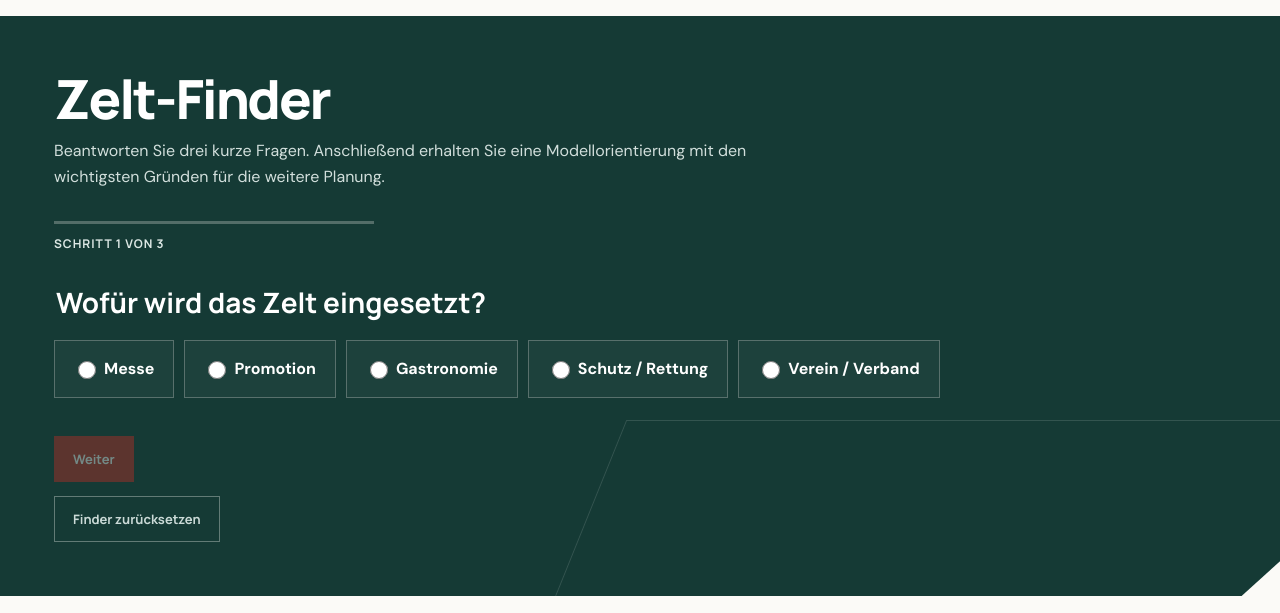
Test: TentFinder › behält Antworten beim Zurückgehen bei
Click the radio button labelled "Gastronomie": (379, 370) [370,361,388,379]
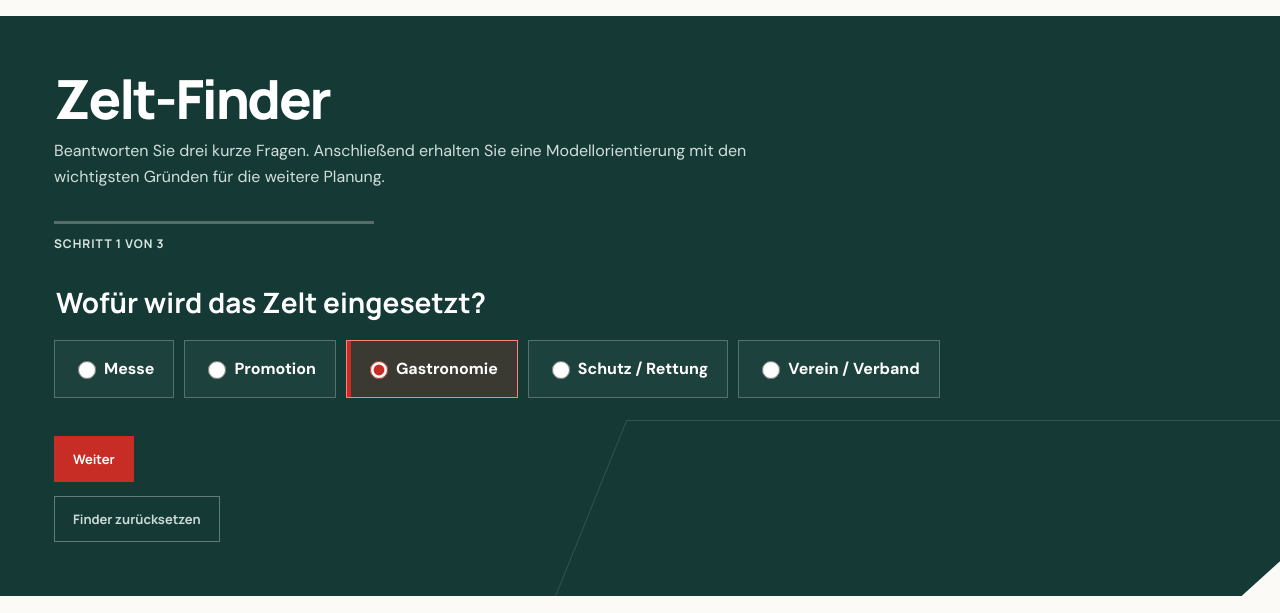
Click the button "Weiter": (94, 459) [54,436,134,482]
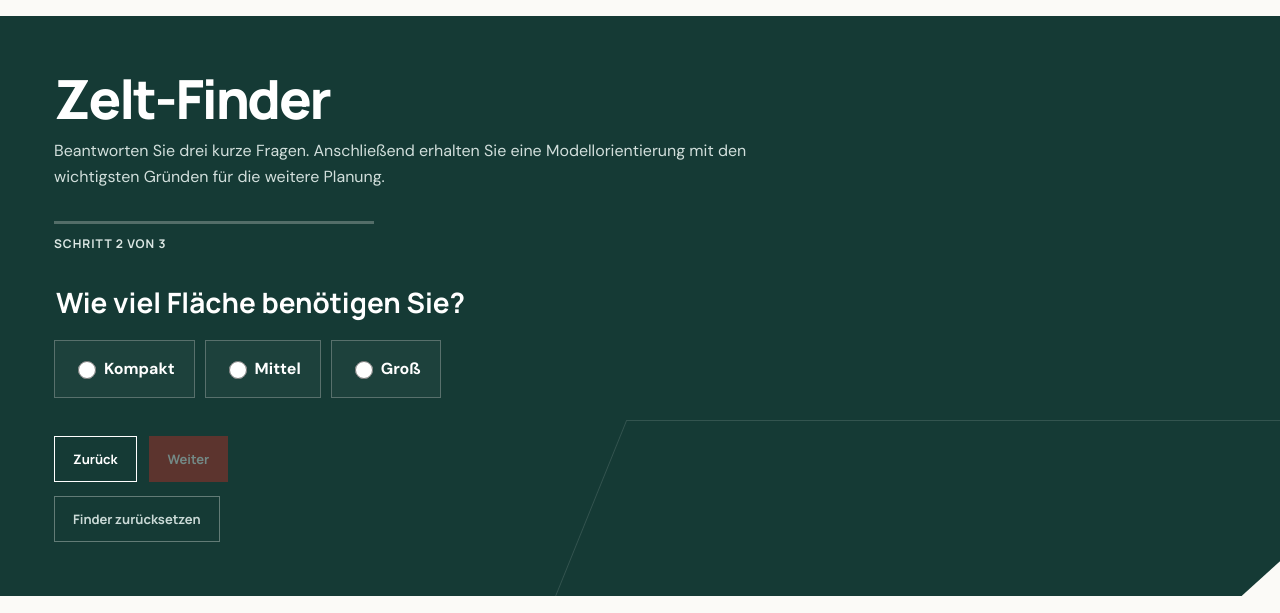
Click the radio button labelled "Mittel": (238, 370) [229,361,247,379]
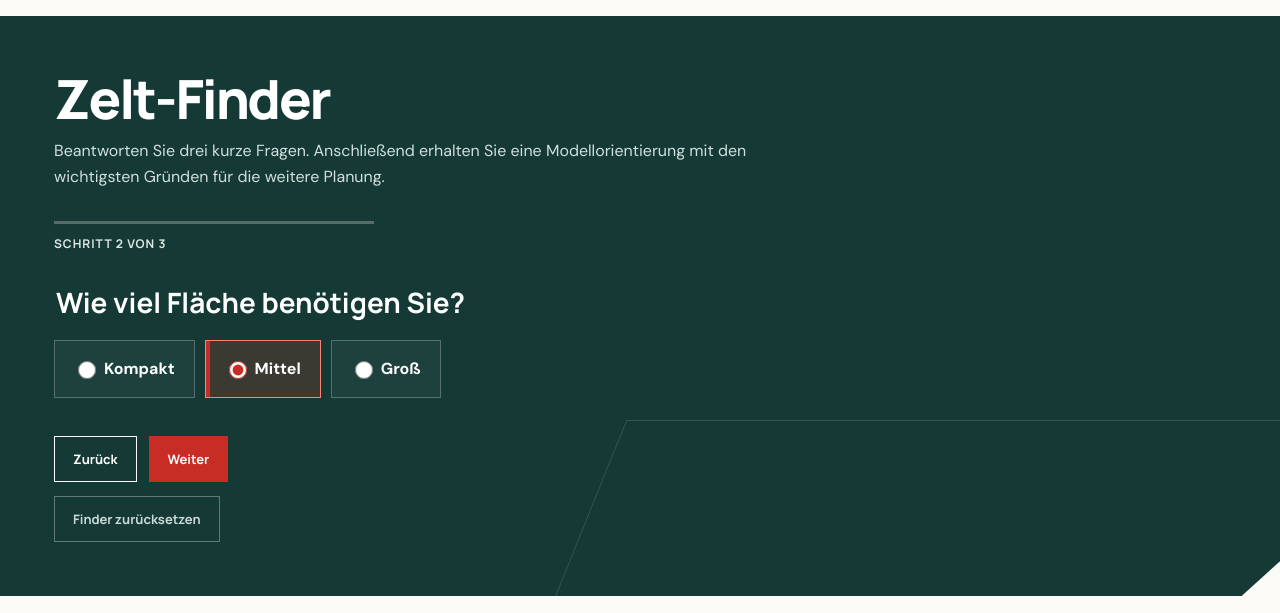
Click the button "Weiter": (188, 459) [149,436,228,482]
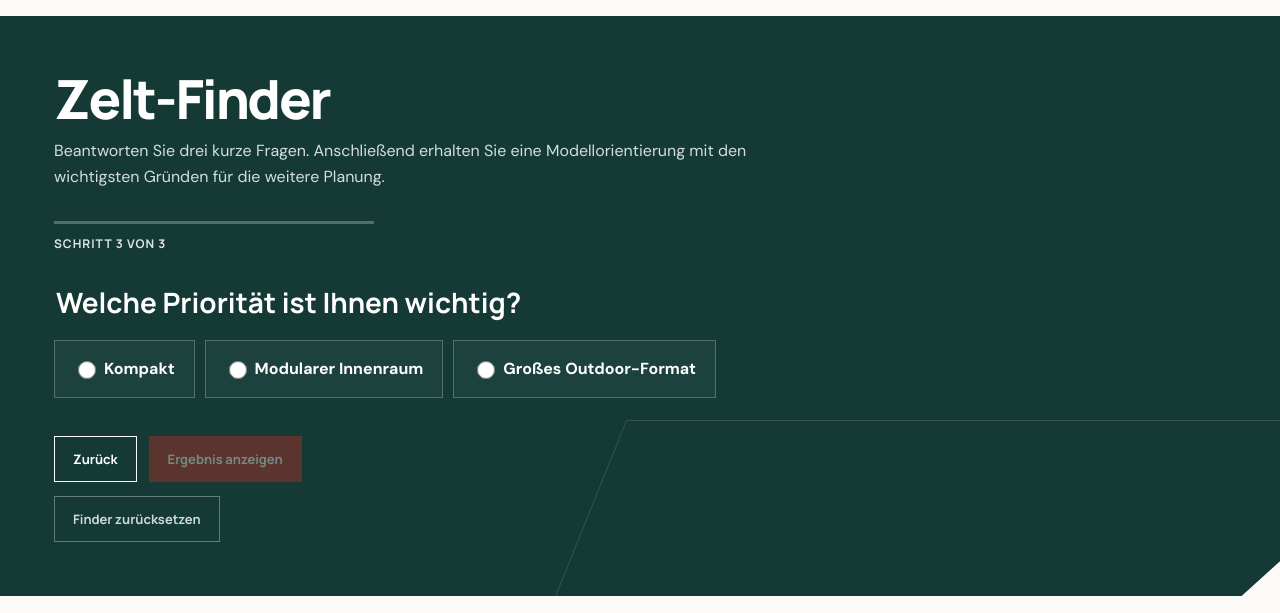
Click the button "Zurück": (95, 459) [54,436,137,482]
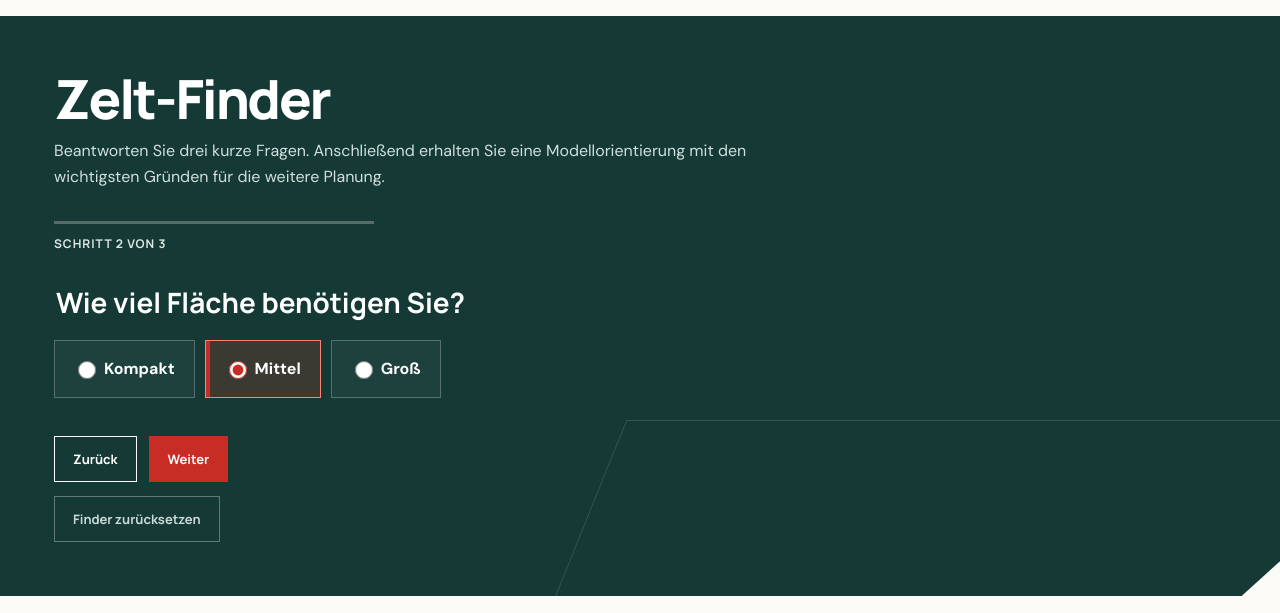
expect the radio button labelled "Mittel" is checked: met, box [229,361,247,379]
Click the button "Zurück": (95, 459) [54,436,137,482]
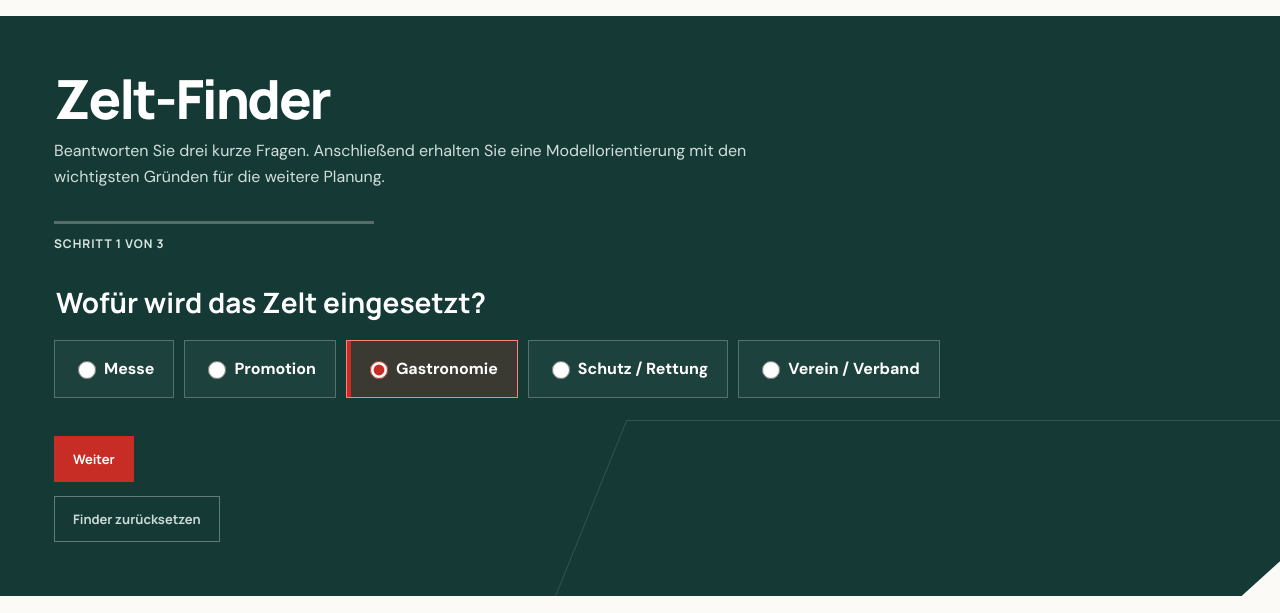
expect the radio button labelled "Gastronomie" is checked: met, box [370,361,388,379]
